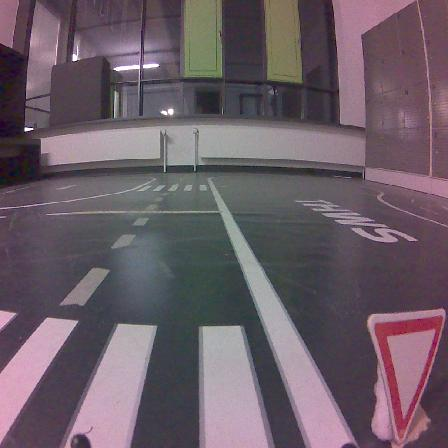GIVE_WAY: (368, 309, 444, 442)
